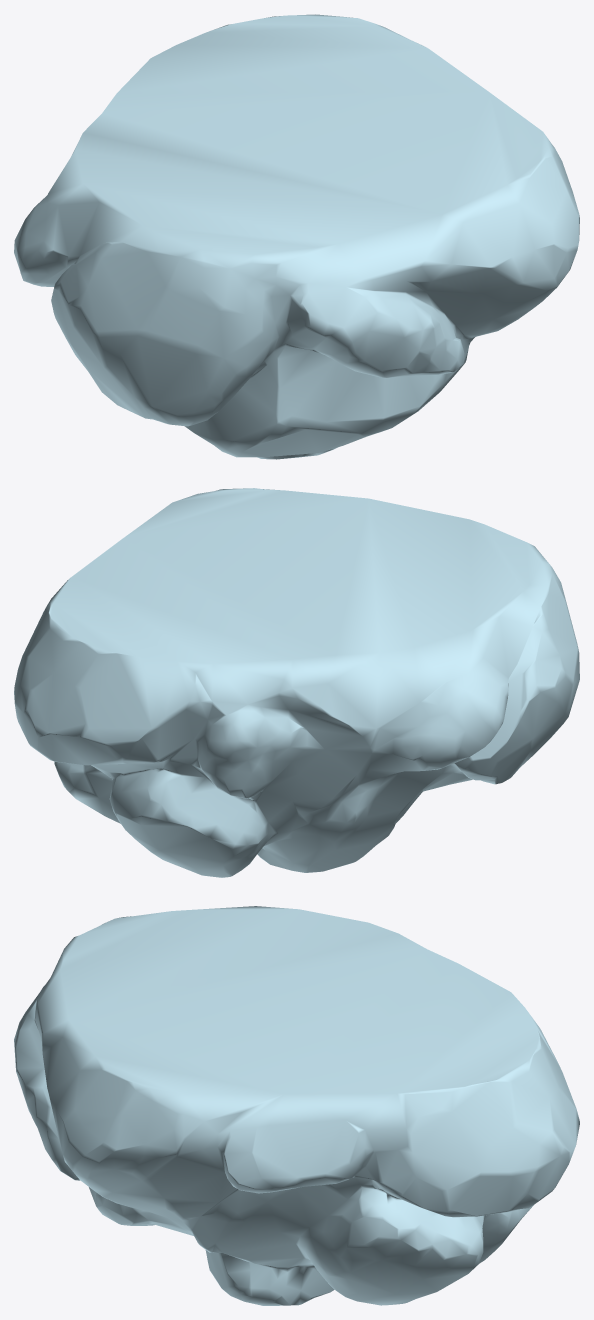
File: island_9_LOD2.fbx
3 renders of one model, top to bottom at view 1: azimuth 30°, elevation 25°; view 2: azimuth 150°, elevation 25°; view 3: azimuth 270°, elevation 25°, orthographic. The views are drawn at different scales.
Parts seen in each view (by area): view 1: island_9_LOD2; view 2: island_9_LOD2; view 3: island_9_LOD2.
Boxes of the visible parts, left/top/right/bottom form: island_9_LOD2: left=14, top=14, right=579, bottom=459; island_9_LOD2: left=14, top=488, right=579, bottom=877; island_9_LOD2: left=14, top=906, right=579, bottom=1305.
Size of the model in its own units: 1330 by 788 by 1418.
